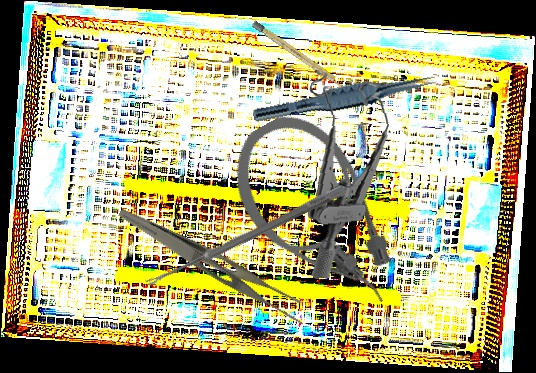Cannula: (213, 96, 418, 339)
Dressing Forceps: (107, 206, 316, 329)
Scalpel Handle: (251, 20, 348, 91)
Speculum: (293, 63, 405, 280)
Surgical Spoon: (144, 183, 347, 290)
Tissue Forceps: (251, 63, 439, 134)
